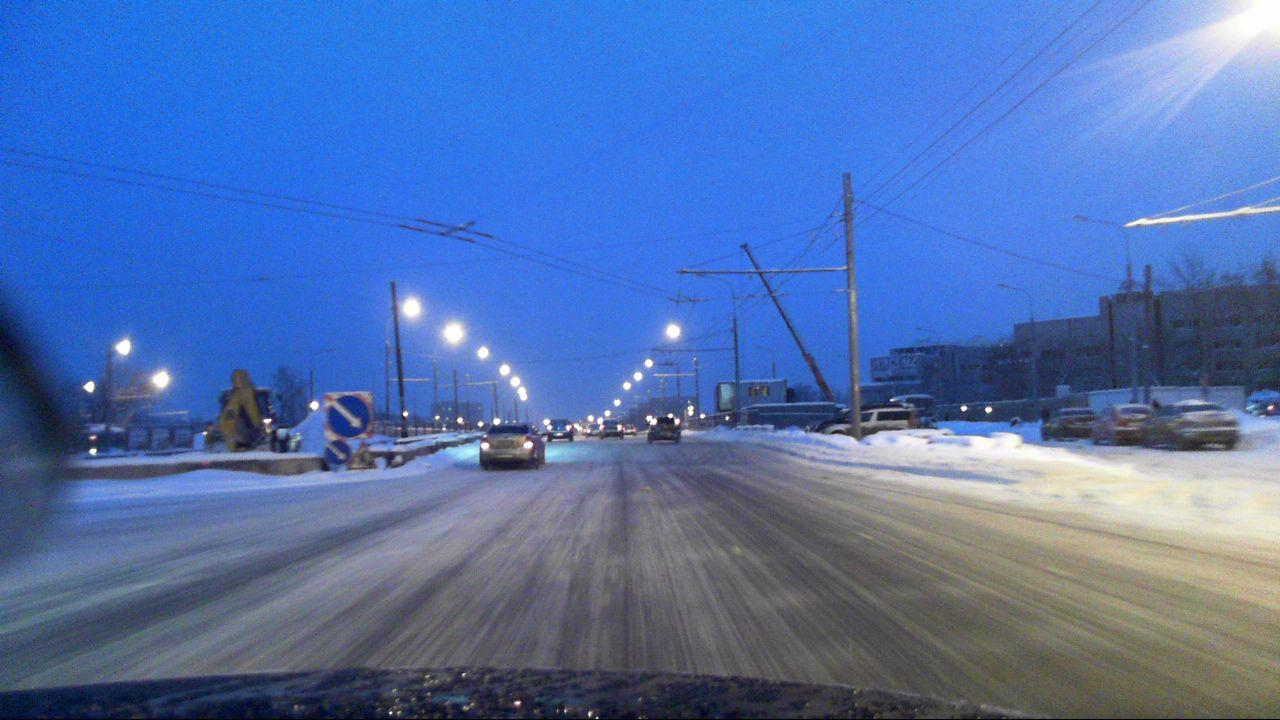road_sign: (325, 392, 372, 438), (323, 441, 351, 466)
